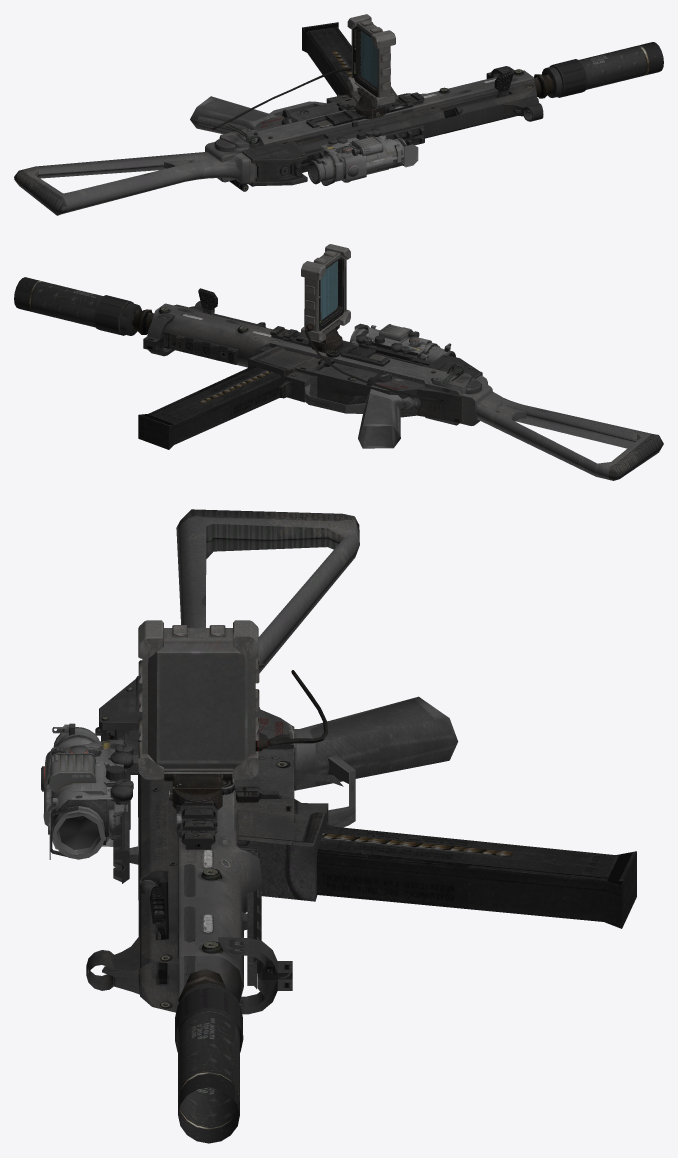
The model's file is viewmodel_ump45_desert_LOD0.obj.
3 renders of one model, top to bottom at view 1: azimuth 30°, elevation 25°; view 2: azimuth 150°, elevation 25°; view 3: azimuth 270°, elevation 25°, orthographic. The views are drawn at different scales.
Visible parts, largest first — view 1: mtl_weapon_ump45_desert, mtl_weapon_motion_tracker_desert, mtl_weapon_suppressor_b, mtl_weapon_acog_2_desert, mtl_weapon_thermal_sight_2_desert, mtl_weapon_eotech_2_desert, mtl_motion_tracker_screen; view 2: mtl_weapon_ump45_desert, mtl_weapon_motion_tracker_desert, mtl_weapon_suppressor_b, mtl_weapon_thermal_sight_2_desert, mtl_motion_tracker_screen, mtl_weapon_acog_2_desert, mtl_weapon_eotech_2_desert; view 3: mtl_weapon_ump45_desert, mtl_weapon_motion_tracker_desert, mtl_weapon_suppressor_b, mtl_weapon_thermal_sight_2_desert, mtl_weapon_acog_2_desert, mtl_weapon_eotech_2_desert, mtl_weapon_thermal_lens_2.
Boxes of the visible parts, x1=… form: mtl_weapon_ump45_desert: x1=14, y1=22, x2=553, y2=215; mtl_weapon_motion_tracker_desert: x1=211, y1=14, x2=413, y2=130; mtl_weapon_suppressor_b: x1=541, y1=42, x2=663, y2=97; mtl_weapon_acog_2_desert: x1=307, y1=128, x2=403, y2=184; mtl_weapon_thermal_sight_2_desert: x1=321, y1=132, x2=418, y2=185; mtl_weapon_eotech_2_desert: x1=320, y1=135, x2=368, y2=182; mtl_motion_tracker_screen: x1=361, y1=31, x2=377, y2=87; mtl_weapon_ump45_desert: x1=132, y1=288, x2=663, y2=480; mtl_weapon_motion_tracker_desert: x1=283, y1=244, x2=443, y2=401; mtl_weapon_suppressor_b: x1=14, y1=277, x2=141, y2=335; mtl_weapon_thermal_sight_2_desert: x1=349, y1=323, x2=438, y2=360; mtl_motion_tracker_screen: x1=320, y1=261, x2=337, y2=319; mtl_weapon_acog_2_desert: x1=351, y1=325, x2=455, y2=362; mtl_weapon_eotech_2_desert: x1=369, y1=337, x2=431, y2=360; mtl_weapon_ump45_desert: x1=86, y1=509, x2=636, y2=1014; mtl_weapon_motion_tracker_desert: x1=138, y1=620, x2=327, y2=837; mtl_weapon_suppressor_b: x1=175, y1=983, x2=243, y2=1143; mtl_weapon_thermal_sight_2_desert: x1=43, y1=735, x2=125, y2=859; mtl_weapon_acog_2_desert: x1=41, y1=723, x2=133, y2=849; mtl_weapon_eotech_2_desert: x1=44, y1=739, x2=130, y2=836; mtl_weapon_thermal_lens_2: x1=58, y1=816, x2=99, y2=849.
Bounding box in the file's own units: 93.69 × 18.07 × 39.81.
